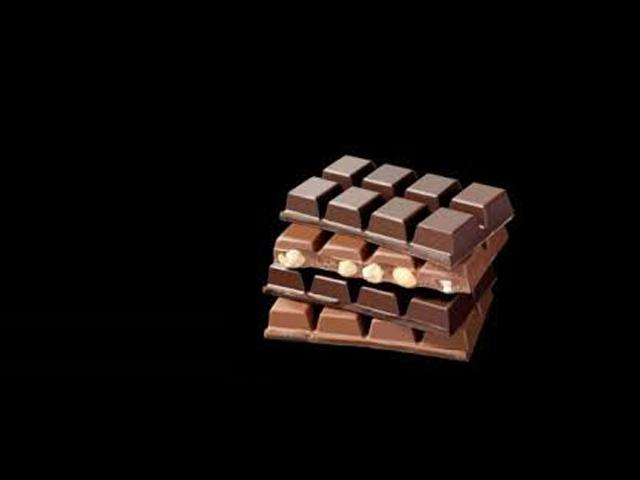chocolate: (265, 154, 496, 368)
